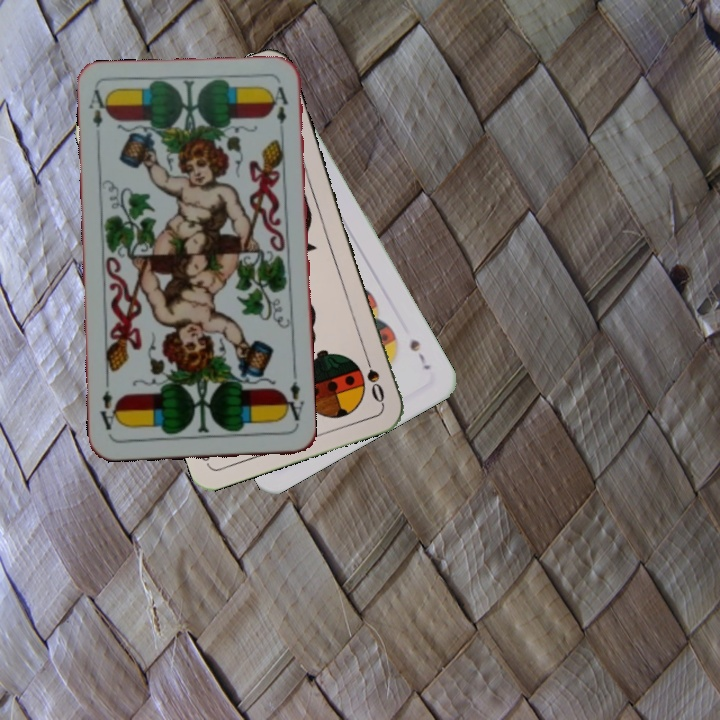EA: (85, 86, 111, 145), (279, 378, 307, 429)
S7: (405, 335, 434, 373)
SO: (360, 349, 387, 406)
